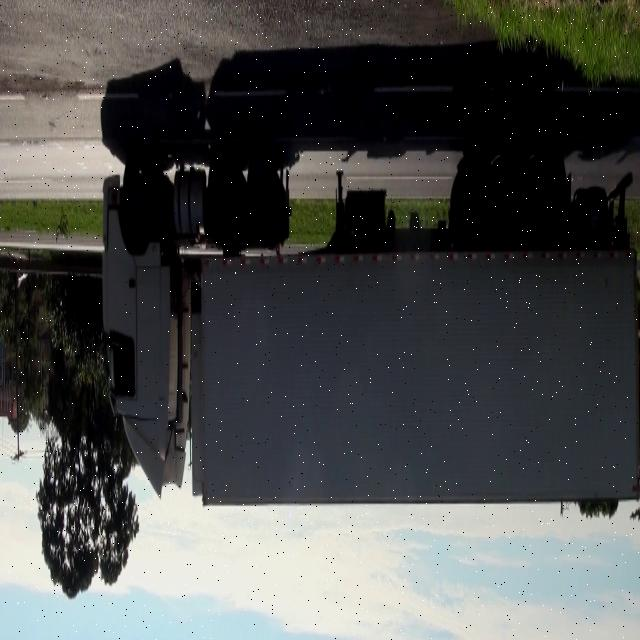-axle: (461, 147, 495, 241), (535, 152, 567, 241), (210, 152, 243, 238), (120, 152, 154, 230), (502, 156, 533, 239), (248, 159, 276, 232)
